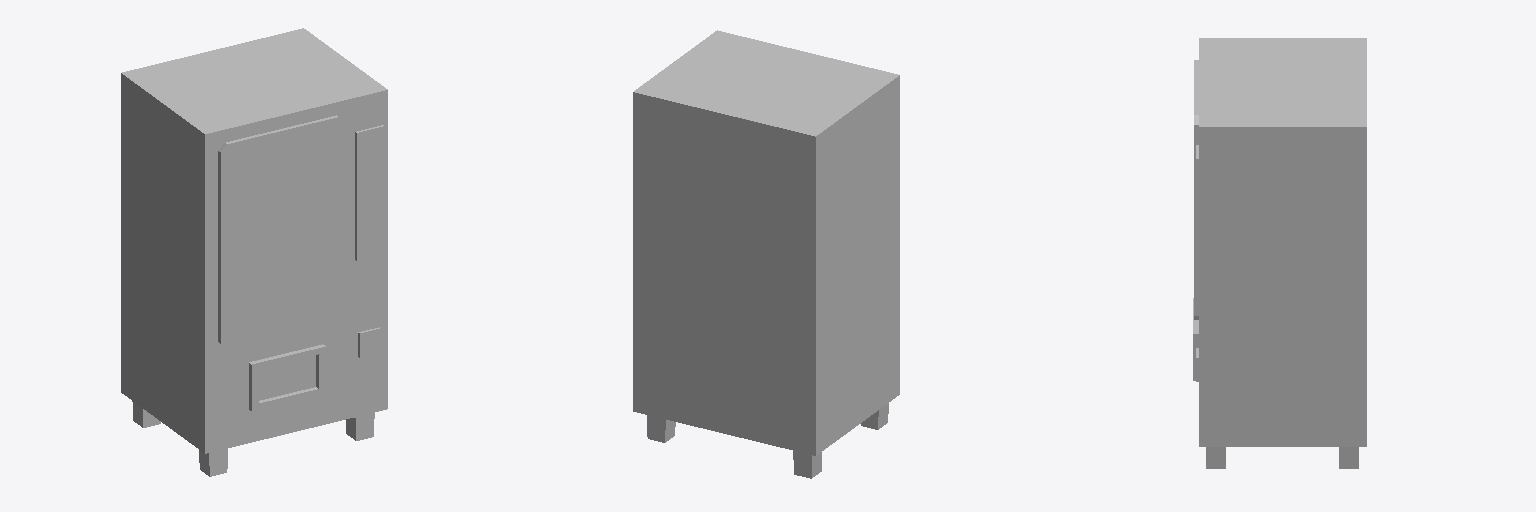
Rendered from SM_Maquina_Espendedora.obj.
3 views of the same model, side by side, from view 1: azimuth 30°, elevation 25°; view 2: azimuth 150°, elevation 25°; view 3: azimuth 270°, elevation 25° (orthographic).
Visible parts, largest first — view 1: Maquina_Espendedora; view 2: Maquina_Espendedora; view 3: Maquina_Espendedora.
Boxes of the visible parts, <box> form: Maquina_Espendedora: <box>121,28,387,476</box>; Maquina_Espendedora: <box>633,30,899,478</box>; Maquina_Espendedora: <box>1193,38,1366,468</box>.
Size of the model in its own units: 120 by 217 by 98.93.